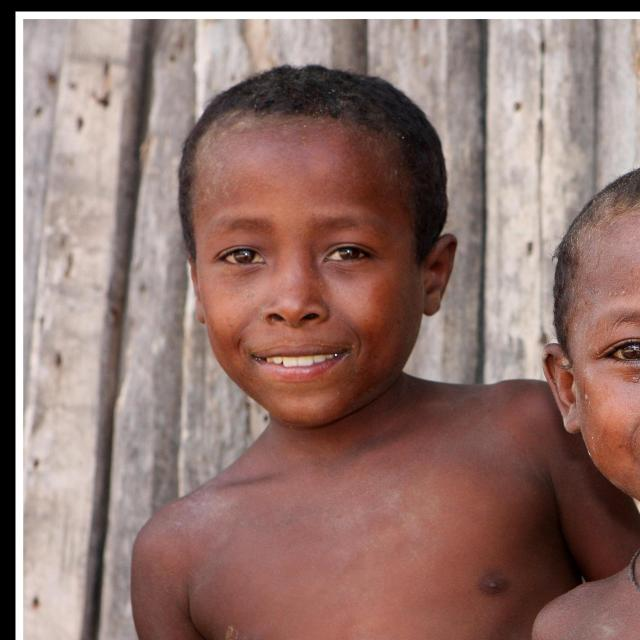no-glass: (209, 233, 376, 276)
